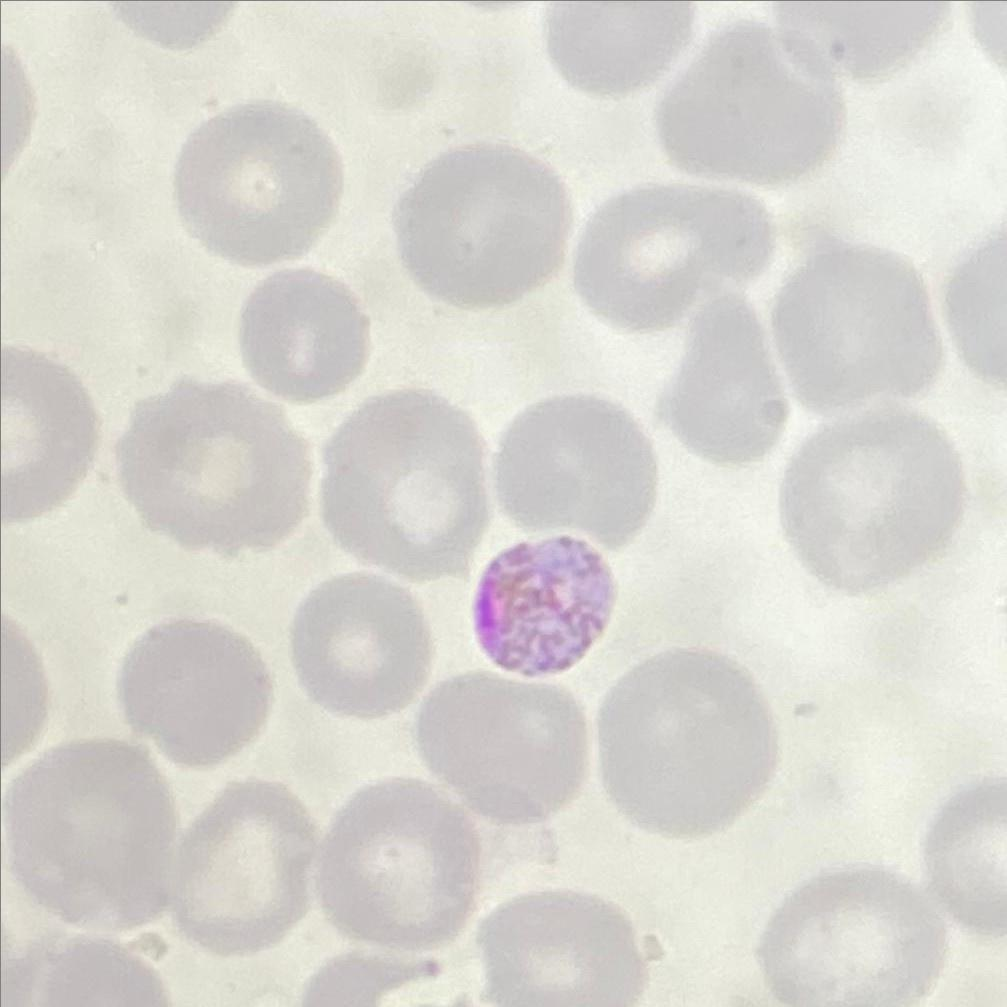Infected: (475, 528, 622, 676)
Uninfected: (107, 371, 309, 548), (775, 411, 962, 601), (602, 651, 784, 843), (660, 18, 841, 193), (5, 736, 178, 918), (172, 96, 344, 273), (568, 181, 776, 326), (775, 238, 948, 411), (323, 391, 481, 575), (657, 271, 794, 473), (395, 141, 562, 306), (412, 673, 592, 825), (757, 866, 944, 1007), (320, 776, 472, 943), (490, 396, 656, 546), (173, 781, 316, 952), (112, 623, 269, 770), (473, 888, 641, 1007), (285, 578, 427, 716), (0, 346, 96, 536), (240, 271, 369, 403)
